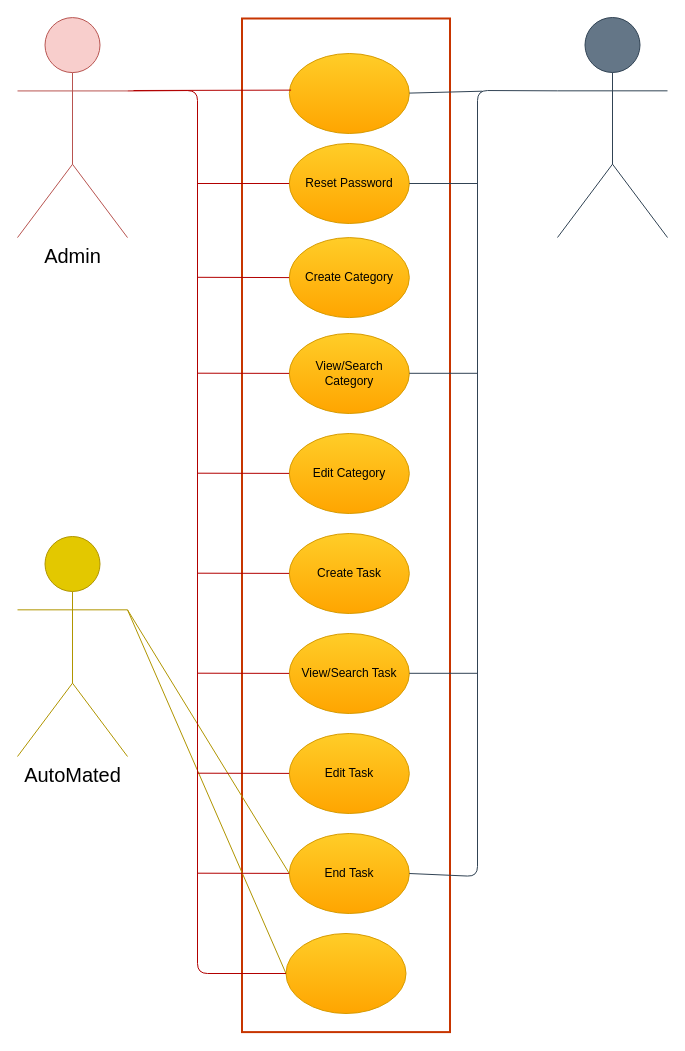
The diagram is 685 pixels wide and 1051 high, and some of its shapes have lost their labels. The shapes that lost their labels are listed below. From the top down, each one's box as (x1, y1, x2, y2) in pixels, then its label:
(288, 52, 409, 134): Register/Login
(556, 16, 668, 238): User
(285, 932, 406, 1014): Send Email
